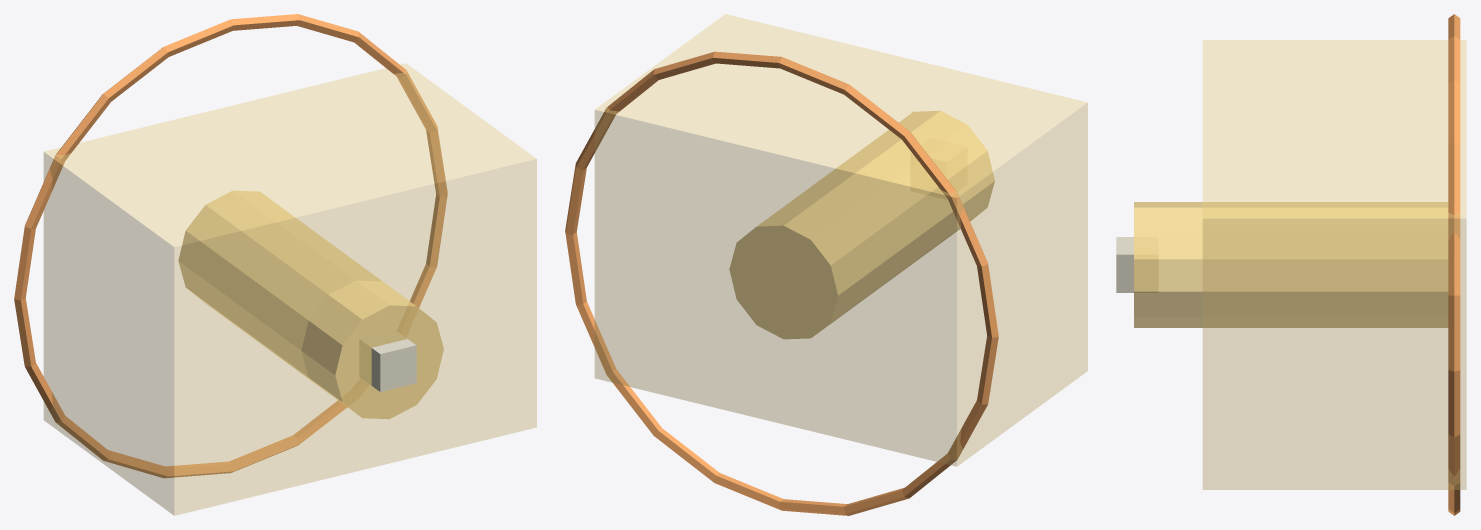
File: 04_lod_collision_overlay_4.glb
The picture shows the model from 3 angles, left to right: view 1: azimuth 30°, elevation 25°; view 2: azimuth 150°, elevation 25°; view 3: azimuth 270°, elevation 25°; orthographic projection.
Visible parts, largest first — view 1: lod_proxy_box, capsule_hint_center, bounds_ring_floor, pivot_marker; view 2: lod_proxy_box, capsule_hint_center, bounds_ring_floor; view 3: lod_proxy_box, capsule_hint_center, bounds_ring_floor, pivot_marker.
Part boxes in pixels (<box>): lod_proxy_box: <box>44,63,536,515</box>; capsule_hint_center: <box>178,190,443,419</box>; bounds_ring_floor: <box>14,14,447,478</box>; pivot_marker: <box>360,330,416,391</box>; lod_proxy_box: <box>595,14,1087,466</box>; capsule_hint_center: <box>729,110,994,339</box>; bounds_ring_floor: <box>565,51,998,515</box>; lod_proxy_box: <box>1203,40,1466,489</box>; capsule_hint_center: <box>1134,202,1448,327</box>; bounds_ring_floor: <box>1448,14,1460,515</box>; pivot_marker: <box>1116,237,1157,292</box>.
Size of the model in its own units: 1.44 by 1.44 by 0.995.
